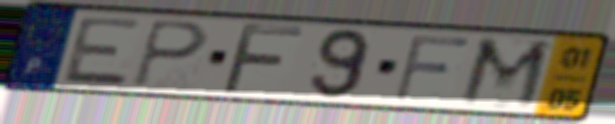9: (307, 26, 374, 102)
E: (58, 15, 147, 89)
F: (216, 20, 307, 98), (389, 32, 475, 104)
M: (453, 34, 558, 113)
P: (129, 17, 211, 90)
